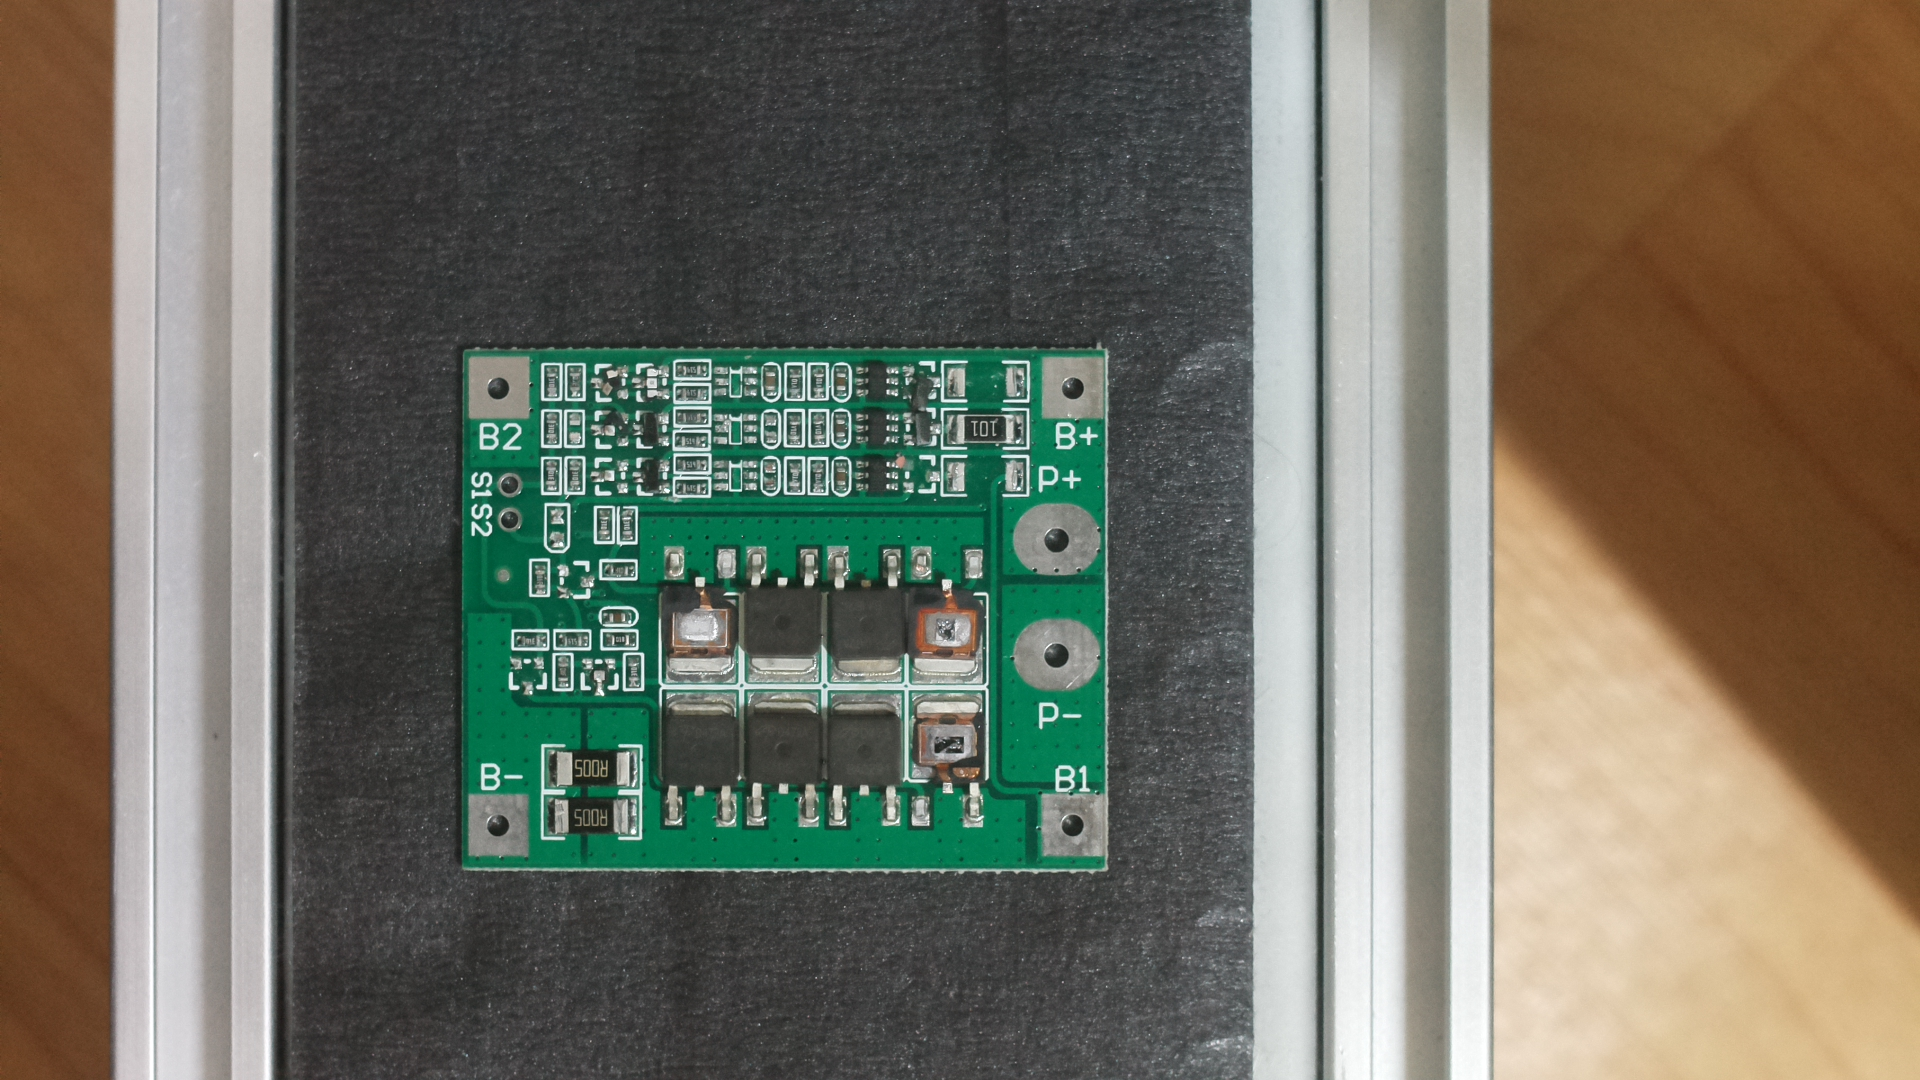C_Missing_part: (450, 327, 1125, 880)
